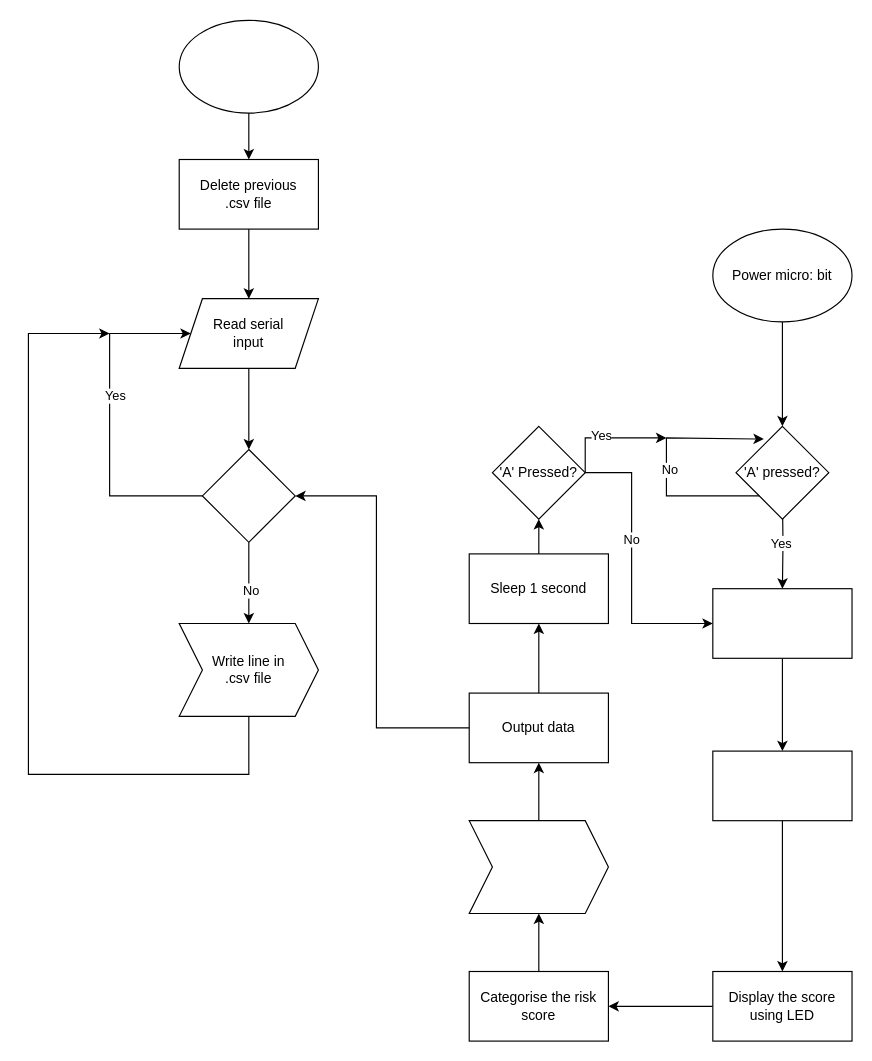
The diagram is 872 pixels wide and 1061 high, and some of its shapes have lost their labels. The shapes that lost their labels are listed below. From the top down, each one's centre as x and y in pixels, then its label:
the point at 248,66: Start python script
the point at 248,495: information empty?
the point at 782,623: Record temperature, humidity and light intensity
the point at 782,785: Score the inputs
the point at 538,866: Make sound depending on risk level
